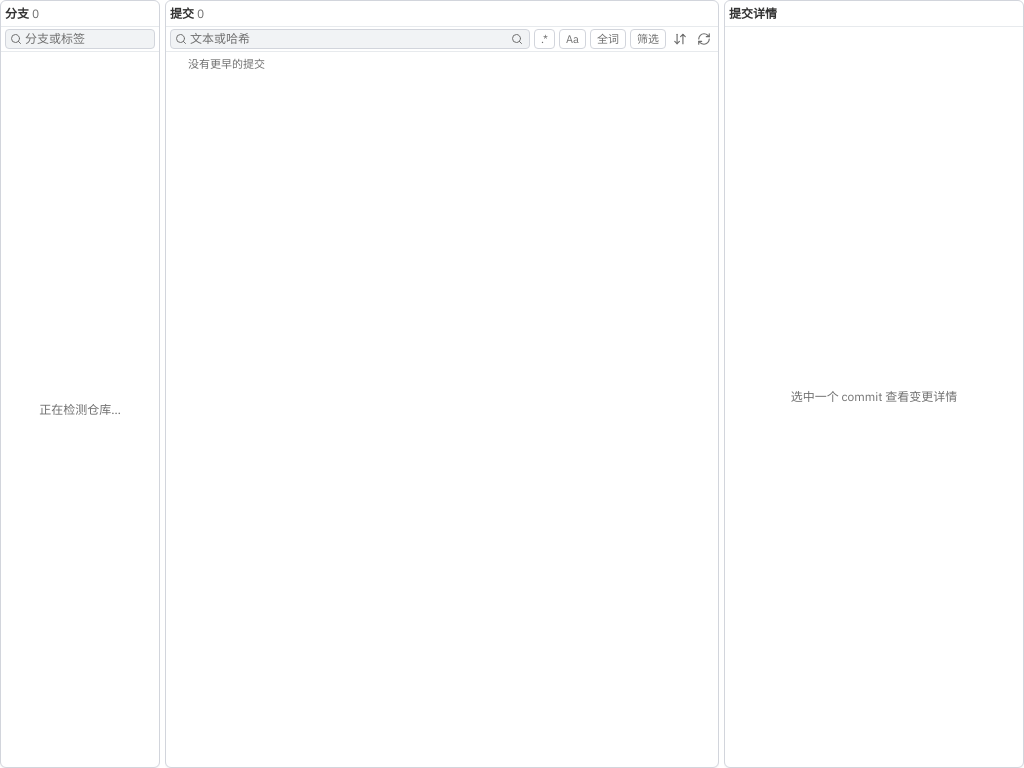
Scenario: GitLogPanel 过滤栏中文化 › 主工具栏与折叠栏渲染中文标签
Expected: the text "提交" is shown, x1=170 y1=4 x2=194 y2=22
Expected: the field with placeholder "文本或哈希" is shown, x1=190 y1=30 x2=506 y2=48
Click the button "筛选" at point(648, 39), box x1=630 y1=29 x2=666 y2=49
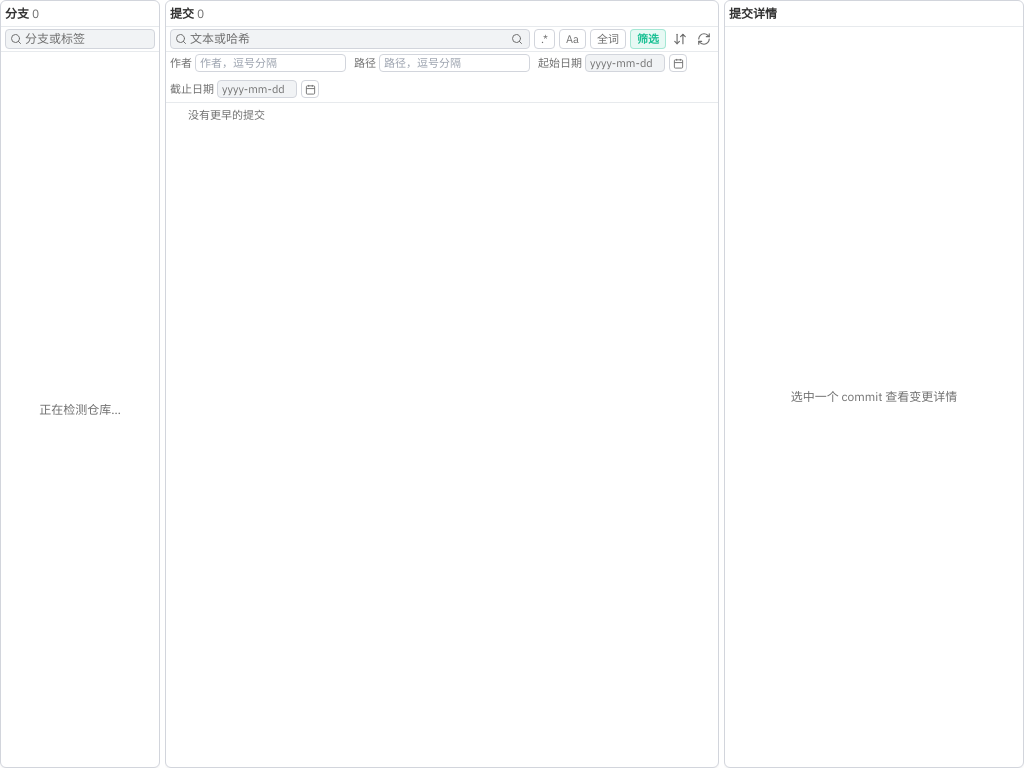
Expected: the text "作者" is shown, x1=170 y1=54 x2=346 y2=72
Expected: the text "路径" is shown, x1=354 y1=54 x2=530 y2=72
Expected: the text "起始日期" is shown, x1=538 y1=54 x2=687 y2=72
